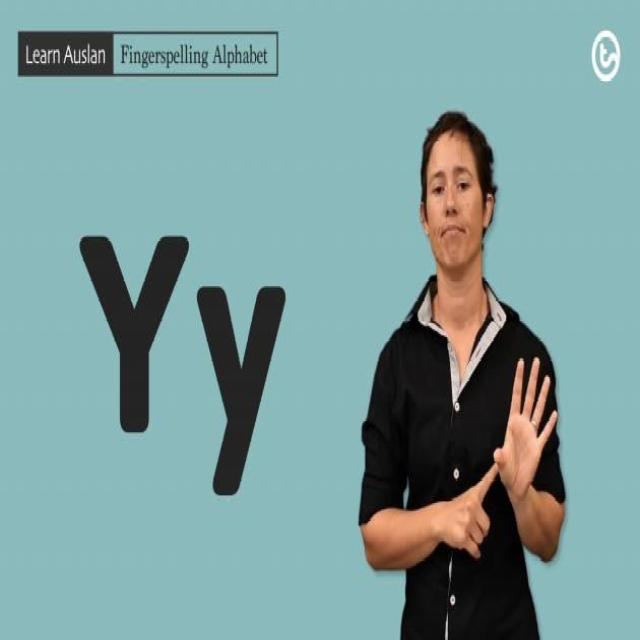Y: (455, 352, 560, 564)
